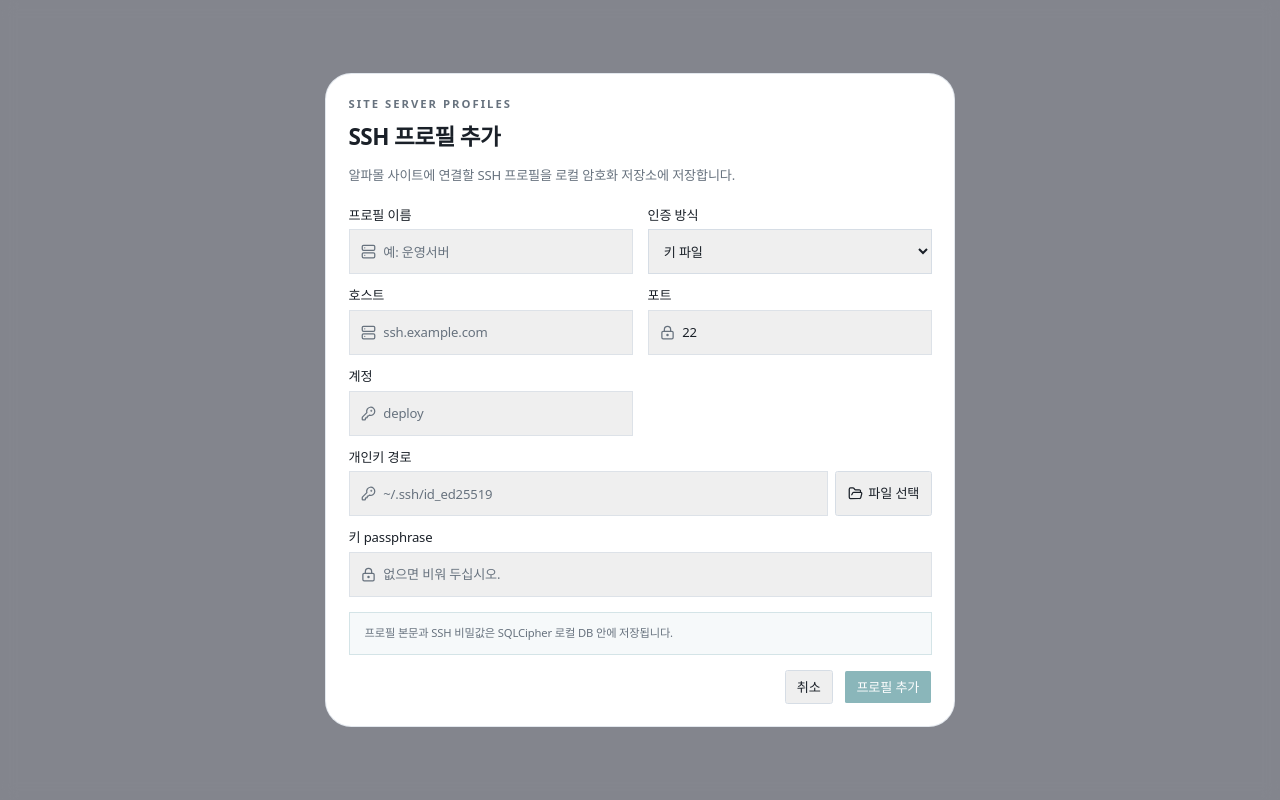
Test: SiteSshProfileDialog › fills the key path from the native file picker
This screenshot has width=1280, height=800.
Step 1. Click the button "파일 선택" → click(884, 494), box [836,471,932,516]
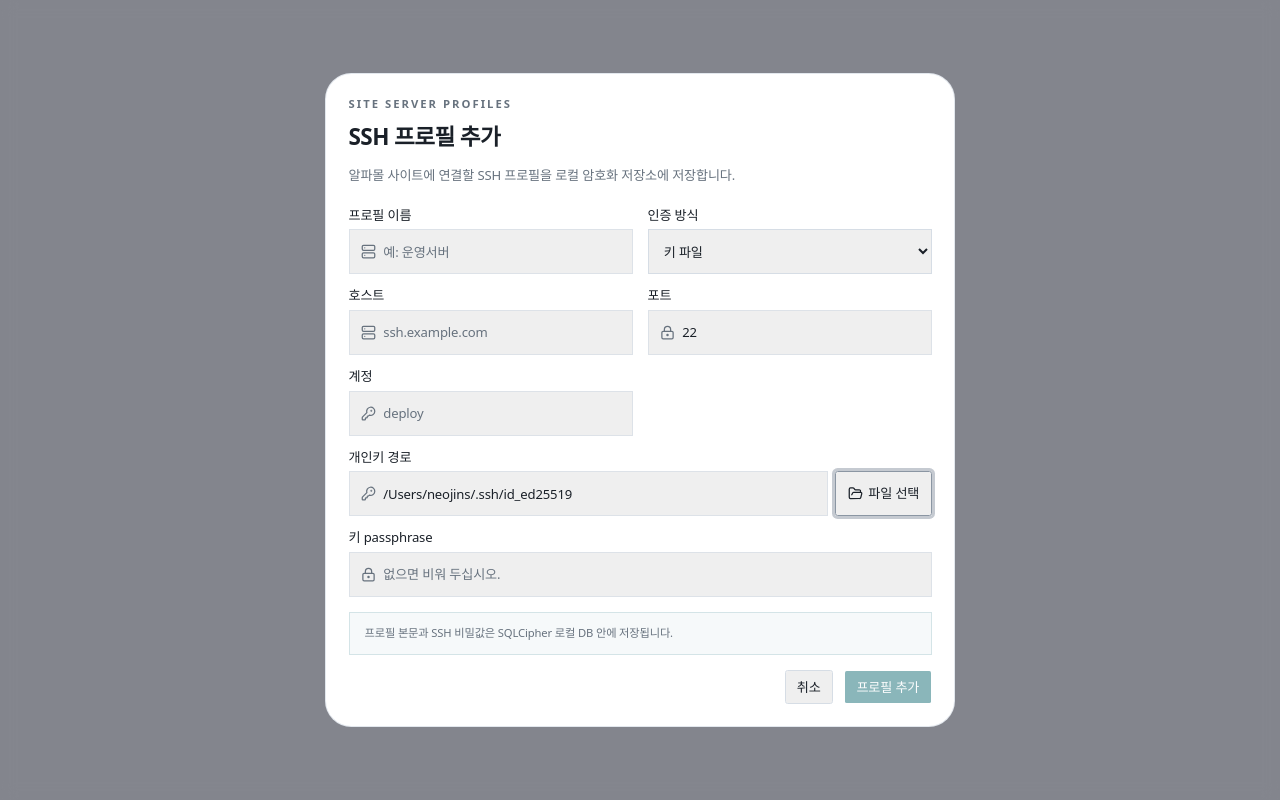
Expected: the field with placeholder "~/.ssh/id_ed25519" holds "/Users/neojins/.ssh/id_ed25519", [376,472,827,515]
